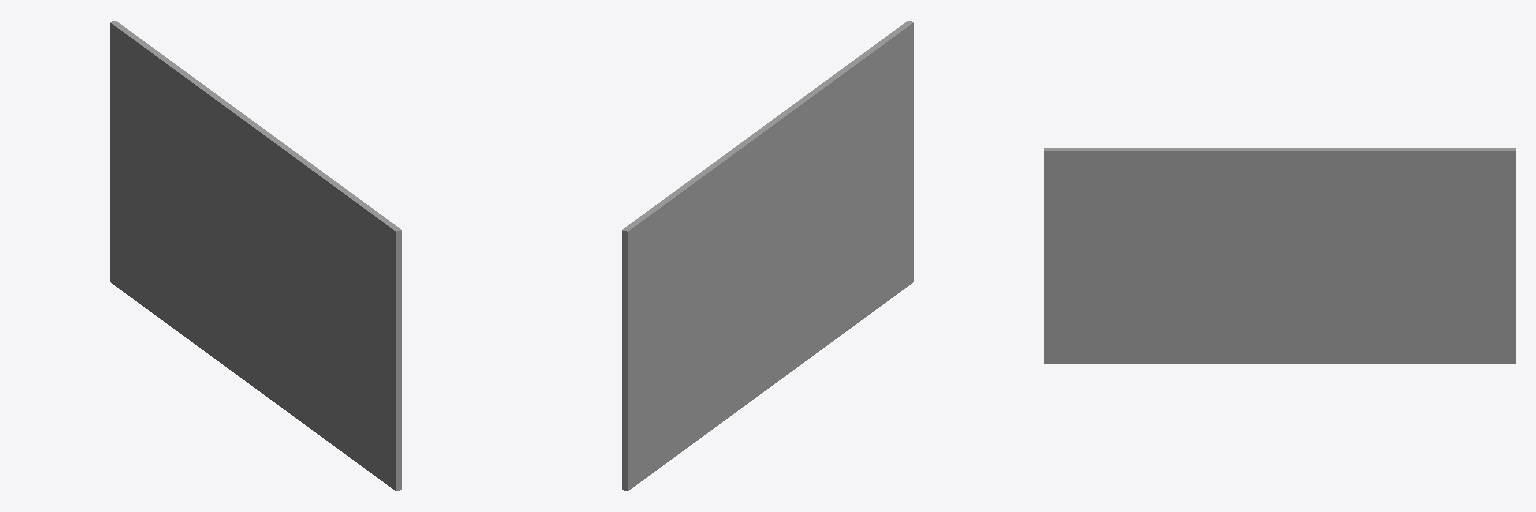
The robot description file, URDF, robot "back_wall.urdf":
<?xml version="0.0" ?>
<robot name="back_wall.urdf">

  <material name="mainColor">
    <color rgba=".67 .67 .67 1."/>
  </material>

  <link name="world"/>

  <link name="base">
    <contact>
      <lateral_friction value="1.0"/>
      <rolling_friction value="0.0"/>
      <contact_cfm value="0.0"/>
      <contact_erp value="1.0"/>
    </contact>
    <inertial>
      <origin rpy="0 0 0" xyz="0.0 0.0 0.0"/>
       <mass value=".1"/>
       <inertia ixx="1" ixy="0" ixz="0" iyy="1" iyz="0" izz="1"/>
    </inertial>
    <visual>
      <!-- back -->
      <origin rpy="0 0 0" xyz="-2.0 0 0"/>
      <geometry>
        <box size=".05 4 2"/>
      </geometry>
      <material name="mainColor"/>
    </visual>
    <collision>
      <!-- back -->
      <origin rpy="0 0 0" xyz="-2.0 0 0"/>
      <geometry>
        <box size=".05 4 2"/>
      </geometry>
    </collision>
  </link>

  <joint name="base_joint" type="fixed">
    <parent link="world"/>
    <child link="base"/>
  </joint>

</robot>

--- Facts derived from the render (not from the file) ---
Views: 3 orthographic renders of the robot side by side, from view 1: azimuth 30°, elevation 25°; view 2: azimuth 150°, elevation 25°; view 3: azimuth 270°, elevation 25°.
Model back_wall.urdf with 2 links and 1 joints (1 fixed), rooted at world, posed all joints at 0.
Visible links, largest first — view 1: base; view 2: base; view 3: base.
Link boxes in pixels (x1,y1,x2,y2): base: (110,21,401,490); base: (622,21,913,490); base: (1044,148,1515,363).
Bounding box of the posed robot: 0.05 × 4 × 2 m (x, y, z).
Geometry: primitives only (box / cylinder / sphere), no mesh files.